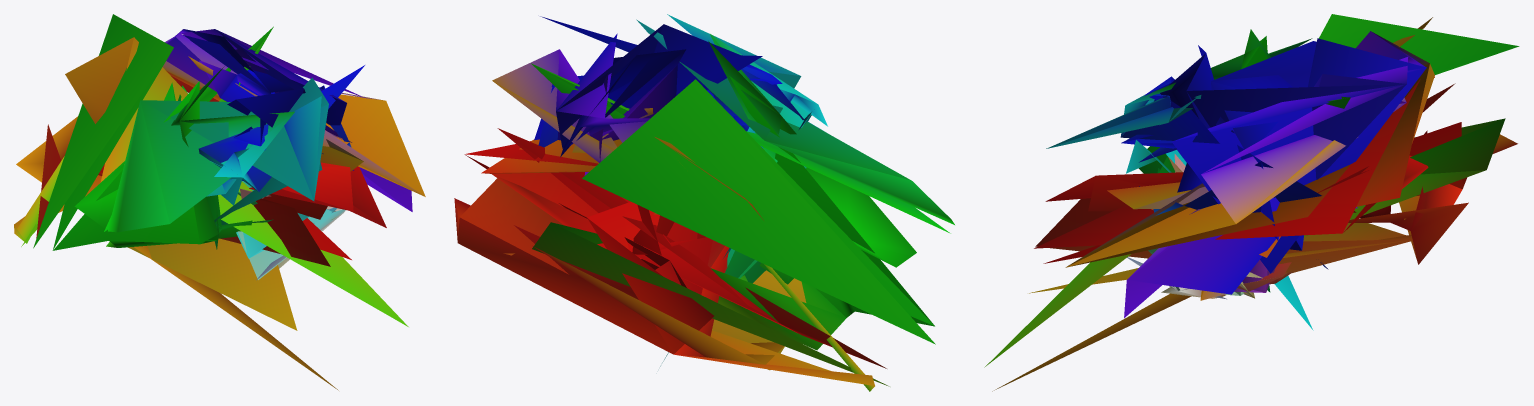
The model's file is zeometry-fragments-ruins-shard-cluster_v8.glb.
3 renders of one model, left to right at view 1: azimuth 30°, elevation 25°; view 2: azimuth 150°, elevation 25°; view 3: azimuth 270°, elevation 25°, orthographic. The views are drawn at different scales.
Parts seen in each view (by area): view 1: Shard Cluster_v8; view 2: Shard Cluster_v8; view 3: Shard Cluster_v8.
Part boxes in pixels (bbox=[...]): Shard Cluster_v8: bbox=[14, 14, 425, 390]; Shard Cluster_v8: bbox=[454, 14, 954, 391]; Shard Cluster_v8: bbox=[984, 14, 1519, 391].
Bounding box in the file's own units: 0.4786 × 0.3674 × 0.5.
